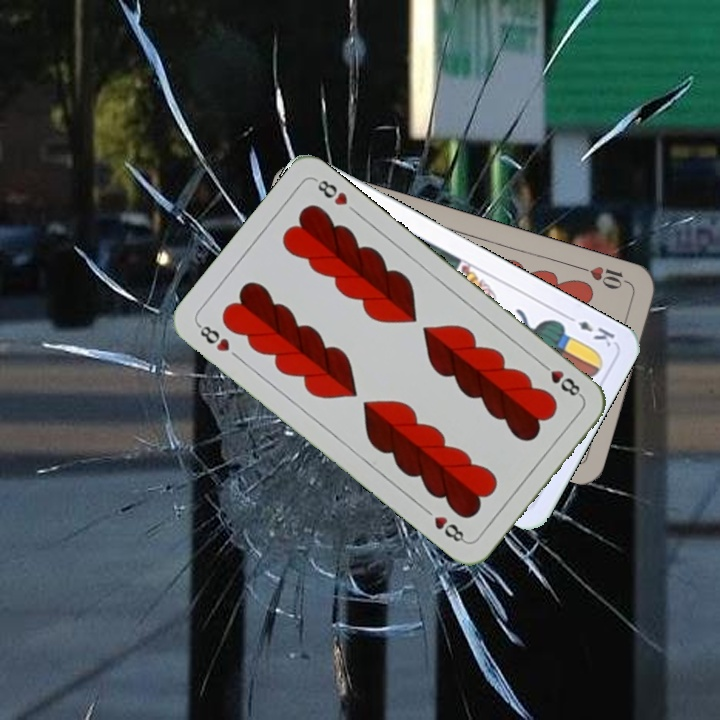EK: (562, 310, 617, 350)
H10: (575, 262, 633, 292)
H8: (535, 358, 585, 400), (193, 320, 233, 355)
